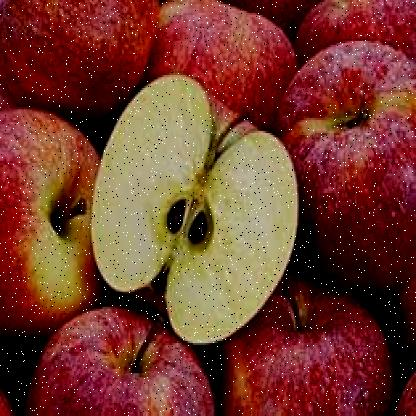apple: (270, 41, 414, 266), (224, 276, 390, 414), (0, 110, 106, 318), (148, 5, 302, 138), (26, 304, 208, 414), (1, 0, 144, 98)
damaged_apple: (93, 77, 299, 335)
